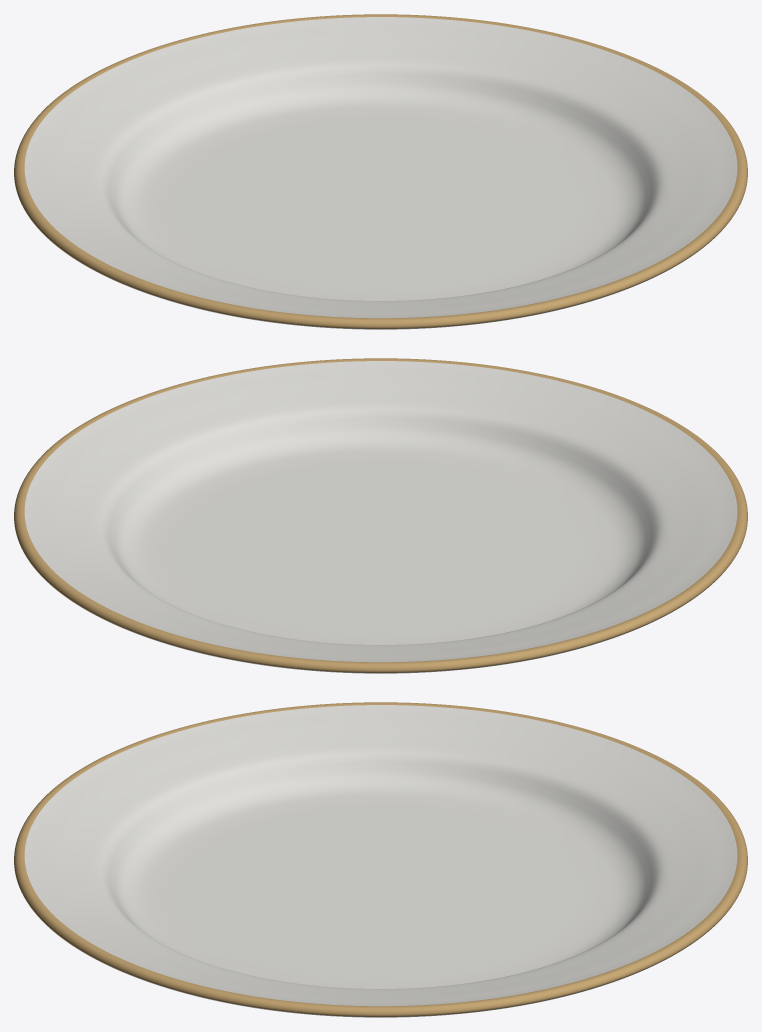
The model's file is dinner-plate.glb.
The picture shows the model from 3 angles, top to bottom: view 1: azimuth 30°, elevation 25°; view 2: azimuth 150°, elevation 25°; view 3: azimuth 270°, elevation 25°; orthographic projection.
Parts seen in each view (by area): view 1: plate, gilt-rim; view 2: plate, gilt-rim; view 3: plate, gilt-rim.
Boxes of the visible parts, x1,y1,x2,y2 form: plate: (24, 17, 737, 329); gilt-rim: (14, 14, 747, 328); plate: (24, 361, 737, 673); gilt-rim: (14, 358, 747, 672); plate: (24, 705, 737, 1017); gilt-rim: (14, 702, 747, 1016).
Bounding box in the file's own units: 1.9 × 0.1467 × 1.9.
